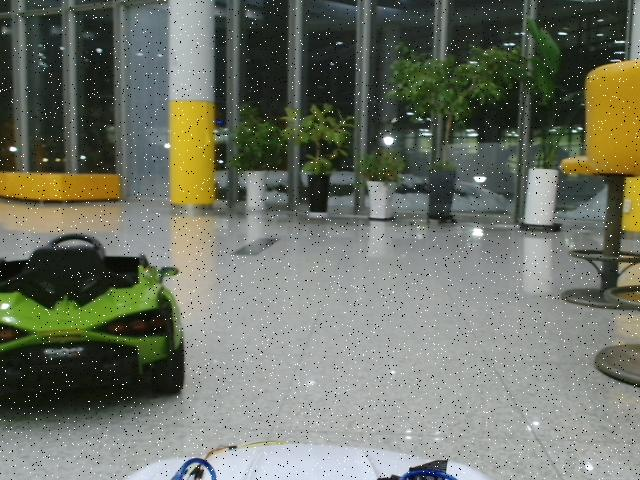car: (1, 233, 185, 412)
